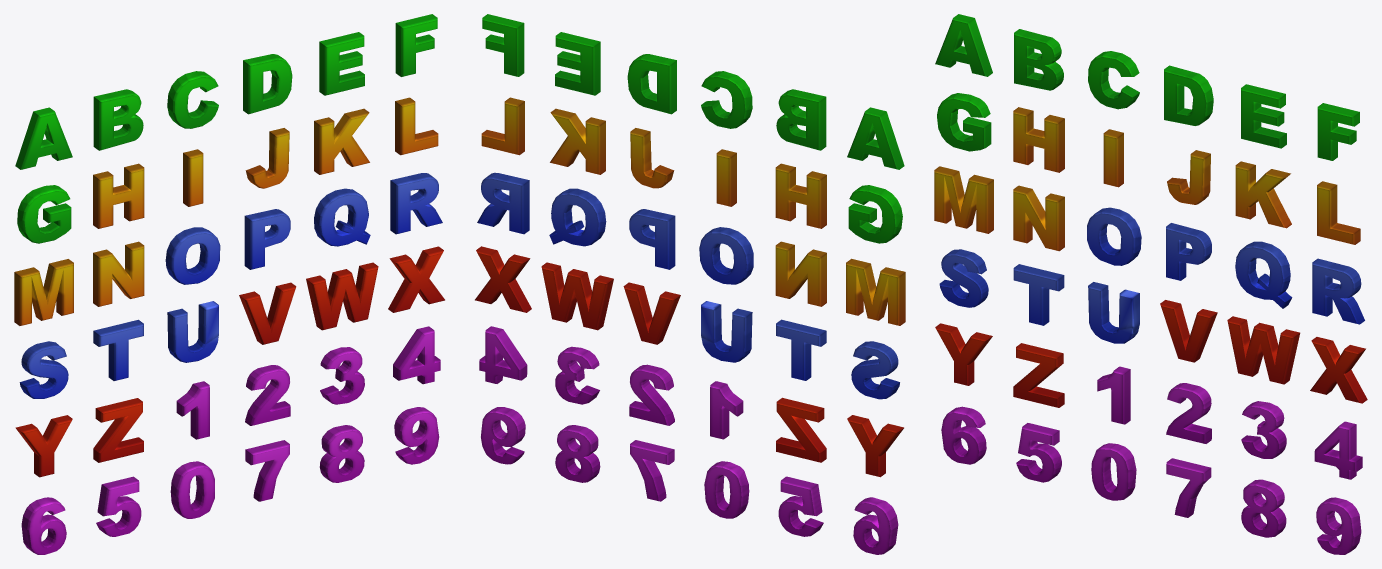
File: AllLetters.FBX
The picture shows the model from 3 angles, left to right: view 1: azimuth 30°, elevation 25°; view 2: azimuth 150°, elevation 25°; view 3: azimuth 330°, elevation 25°; orthographic projection.
Visible parts, largest first — view 1: LitterW, LitterM, LitterB, LitterN, LitterH, LitterQ, LitterK, LitterG, LitterR, LitterE, LitterD, LitterO (+24 smaller); view 2: LitterW, LitterM, LitterB, LitterN, LitterQ, LitterH, LitterK, LitterG, LitterR, LitterE, LitterD, LitterU (+24 smaller); view 3: LitterW, LitterM, LitterN, LitterQ, LitterR, LitterB, LitterH, LitterK, LitterG, LitterD, LitterE, LitterU (+24 smaller).
Part boxes in pixels (x1,y1,x2,y2): LitterW: (306,262,378,330); LitterM: (14,259,73,325); LitterB: (93,89,143,150); LitterN: (93,241,144,306); LitterH: (93,163,144,228); LitterQ: (314,188,370,246); LitterK: (314,108,369,174); LitterG: (17,185,71,243); LitterR: (390,173,442,234); LitterE: (319,32,364,95); LitterD: (243,54,292,114); LitterO: (165,227,220,284); LitterW: (541,262,613,330); LitterM: (846,258,905,325); LitterB: (776,89,826,150); LitterN: (775,241,826,306); LitterQ: (549,188,606,246); LitterH: (775,163,826,228); LitterK: (550,108,605,174); LitterG: (848,185,902,243); LitterR: (477,172,529,234); LitterE: (555,32,600,95); LitterD: (627,54,676,114); LitterU: (701,301,752,362); LitterW: (1227,316,1300,384); LitterM: (934,166,993,233); LitterN: (1013,185,1064,251); LitterQ: (1235,241,1292,308); LitterR: (1312,258,1364,324); LitterB: (1014,29,1063,90); LitterH: (1013,107,1064,172); LitterK: (1235,161,1291,228); LitterG: (937,93,991,151); LitterD: (1164,65,1213,125); LitterE: (1241,84,1286,148); LitterU: (1088,282,1139,343).
Size of the model in its own units: 1143 by 1133 by 35.65.
Materials: 1 (1 with a texture image).
